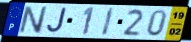0: (146, 9, 167, 37)
1: (82, 6, 96, 37)
2: (122, 8, 145, 37)
I: (100, 7, 115, 38)
J: (46, 7, 68, 35)
N: (18, 5, 48, 34)
